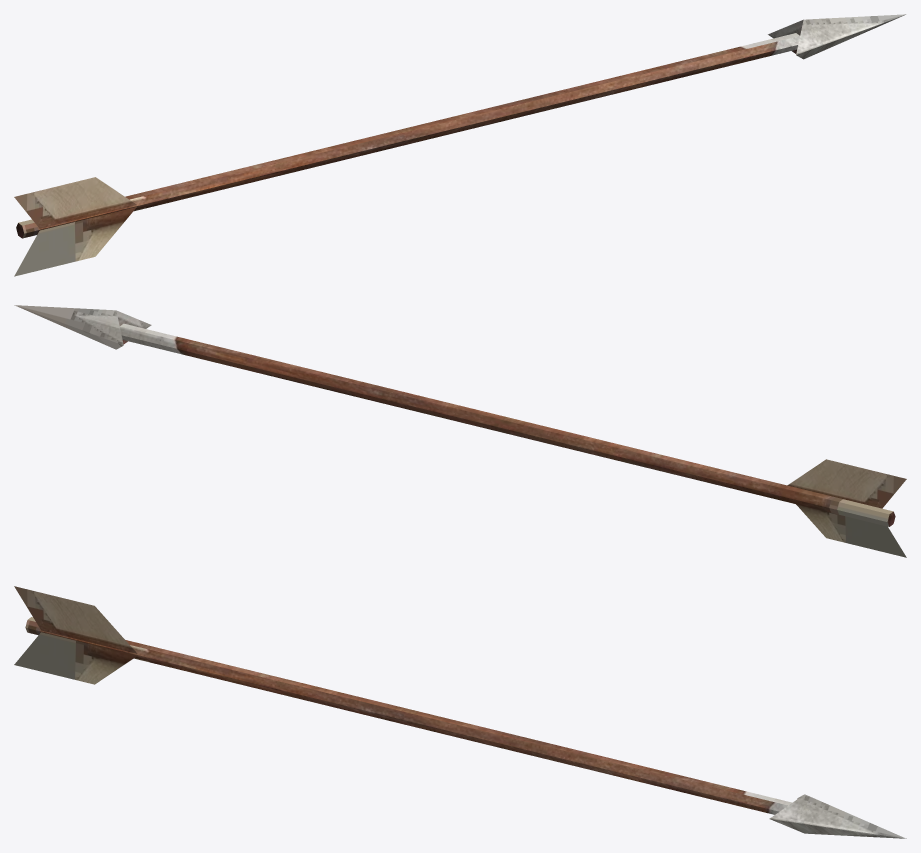
File: arrow.glb
The picture shows the model from 3 angles, top to bottom: view 1: azimuth 30°, elevation 25°; view 2: azimuth 150°, elevation 25°; view 3: azimuth 330°, elevation 25°; orthographic projection.
Parts seen in each view (by area): view 1: Arrow shaft, Arrow feather, Arrow feather.001, Arrowhead; view 2: Arrow shaft, Arrow feather.001, Arrowhead, Arrow feather; view 3: Arrow shaft, Arrow feather, Arrow feather.001, Arrowhead.
Part boxes in pixels (<box>): Arrow shaft: <box>16,33,799,238</box>; Arrow feather: <box>14,207,136,276</box>; Arrow feather.001: <box>14,177,136,228</box>; Arrowhead: <box>768,14,906,59</box>; Arrow shaft: <box>119,323,895,526</box>; Arrow feather.001: <box>787,459,906,508</box>; Arrowhead: <box>14,305,151,349</box>; Arrow feather: <box>796,504,906,557</box>; Arrow shaft: <box>25,617,791,814</box>; Arrow feather: <box>14,632,137,684</box>; Arrow feather.001: <box>14,586,137,653</box>; Arrowhead: <box>769,794,906,838</box>.
Size of the model in its own units: 1.65 by 0.14 by 0.09.
Materials: 4 (4 with a texture image).
